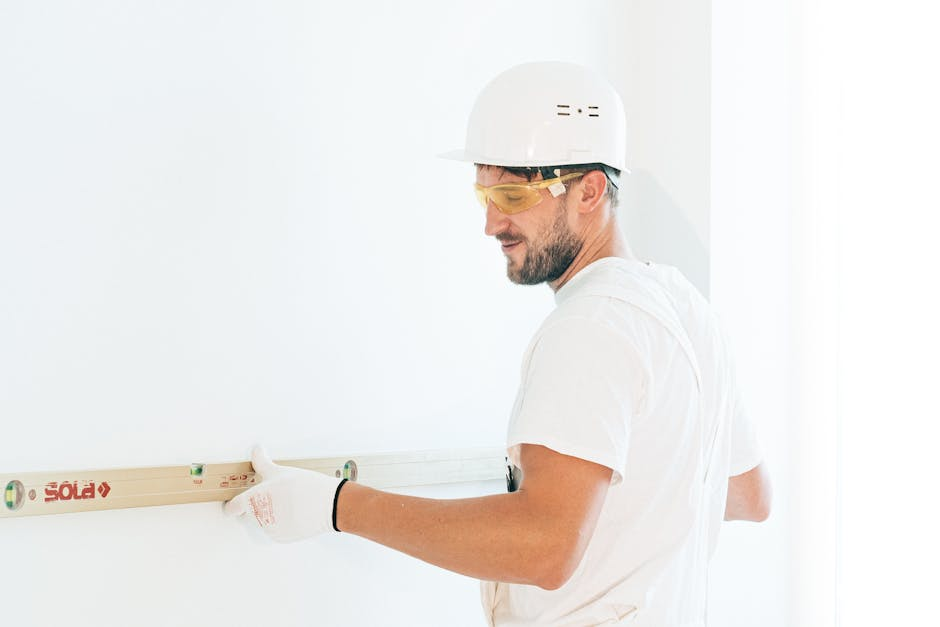safety_helmet: (438, 59, 631, 176)
